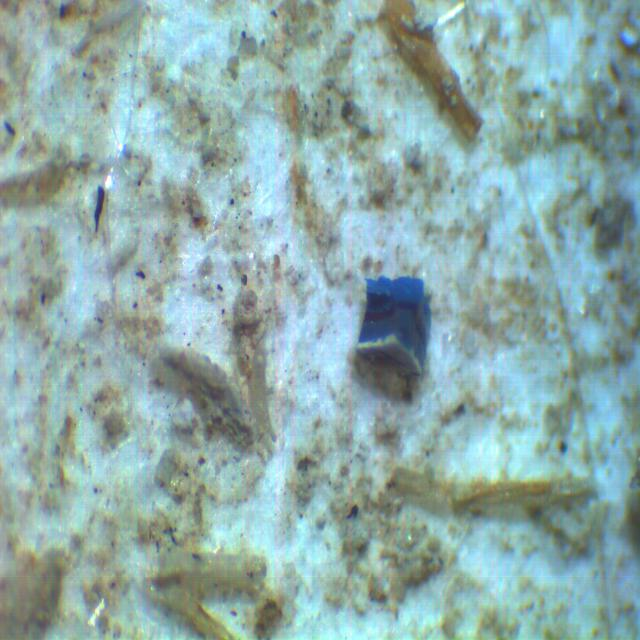microplastic: (352, 270, 438, 381)
